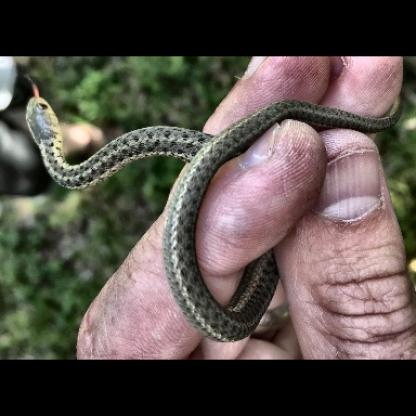Snake: (22, 88, 386, 342)
